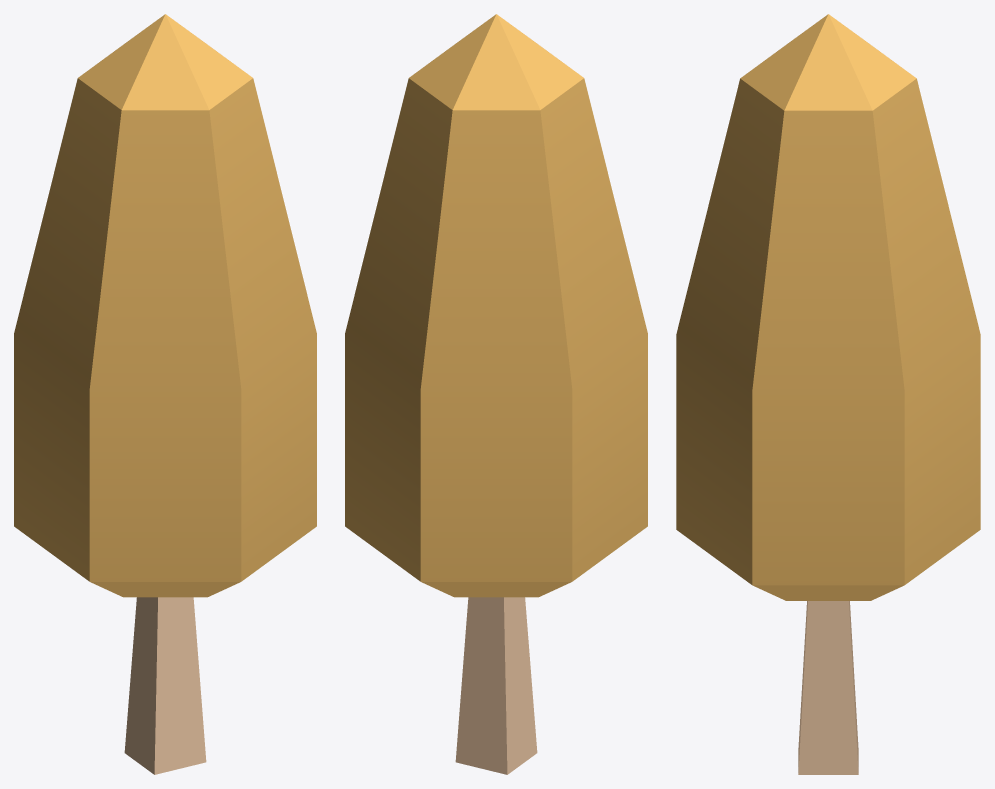
The model's file is tree_small_fall.glb.
3 renders of one model, left to right at view 1: azimuth 30°, elevation 25°; view 2: azimuth 150°, elevation 25°; view 3: azimuth 270°, elevation 25°, orthographic.
Parts seen in each view (by area): view 1: tree_small_fall; view 2: tree_small_fall; view 3: tree_small_fall.
Boxes of the visible parts, bbox=[...] form: tree_small_fall: bbox=[14, 14, 316, 774]; tree_small_fall: bbox=[345, 14, 647, 774]; tree_small_fall: bbox=[676, 14, 980, 774].
Size of the model in its own units: 0.3546 by 1.11 by 0.4095.
